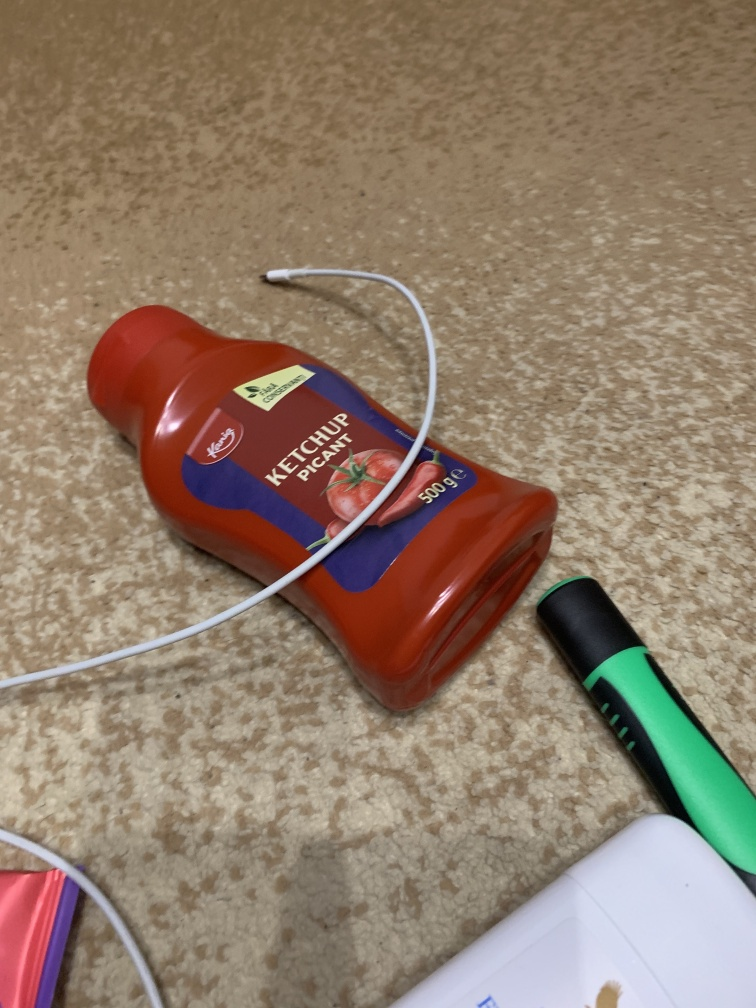milka: (81, 301, 561, 728)
